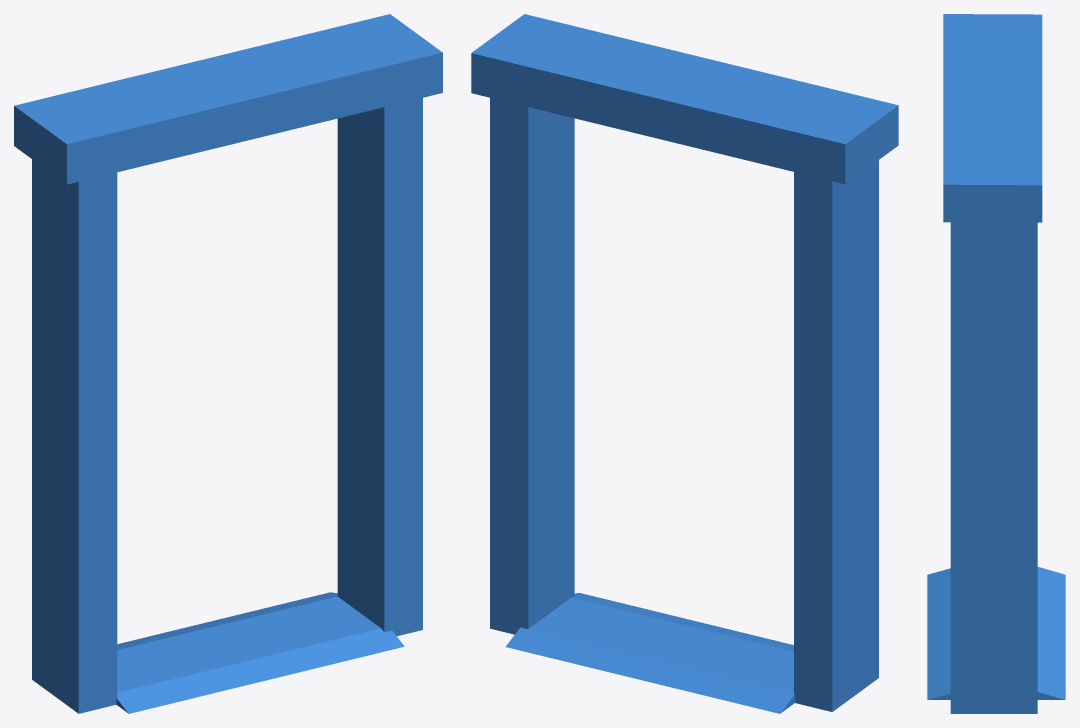
File: Collision_DoorFrame_Flat_WoodLight.fbx
3 views of the same model, side by side, from view 1: azimuth 30°, elevation 25°; view 2: azimuth 150°, elevation 25°; view 3: azimuth 270°, elevation 25° (orthographic). The views are drawn at different scales.
Visible parts, largest first — view 1: UCX_DoorFrame_Flat_WoodLight_1; view 2: UCX_DoorFrame_Flat_WoodLight_1; view 3: UCX_DoorFrame_Flat_WoodLight_1.
Boxes of the visible parts, x1,y1,x2,y2 form: UCX_DoorFrame_Flat_WoodLight_1: [14, 14, 442, 713]; UCX_DoorFrame_Flat_WoodLight_1: [471, 14, 898, 713]; UCX_DoorFrame_Flat_WoodLight_1: [927, 14, 1065, 713].
Bounding box in the file's own units: 157 × 230 × 53.89.
